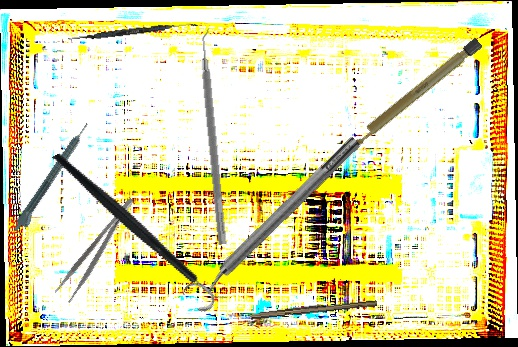Chopper: (52, 112, 232, 340)
Dressing Forceps: (52, 195, 145, 305)
Fixation Ring: (178, 128, 371, 317)
Handpiece: (11, 120, 96, 237)
Scalpel Handle: (347, 36, 483, 151), (249, 296, 378, 322)
Spatula Surgical: (195, 27, 236, 245), (68, 18, 198, 45)
